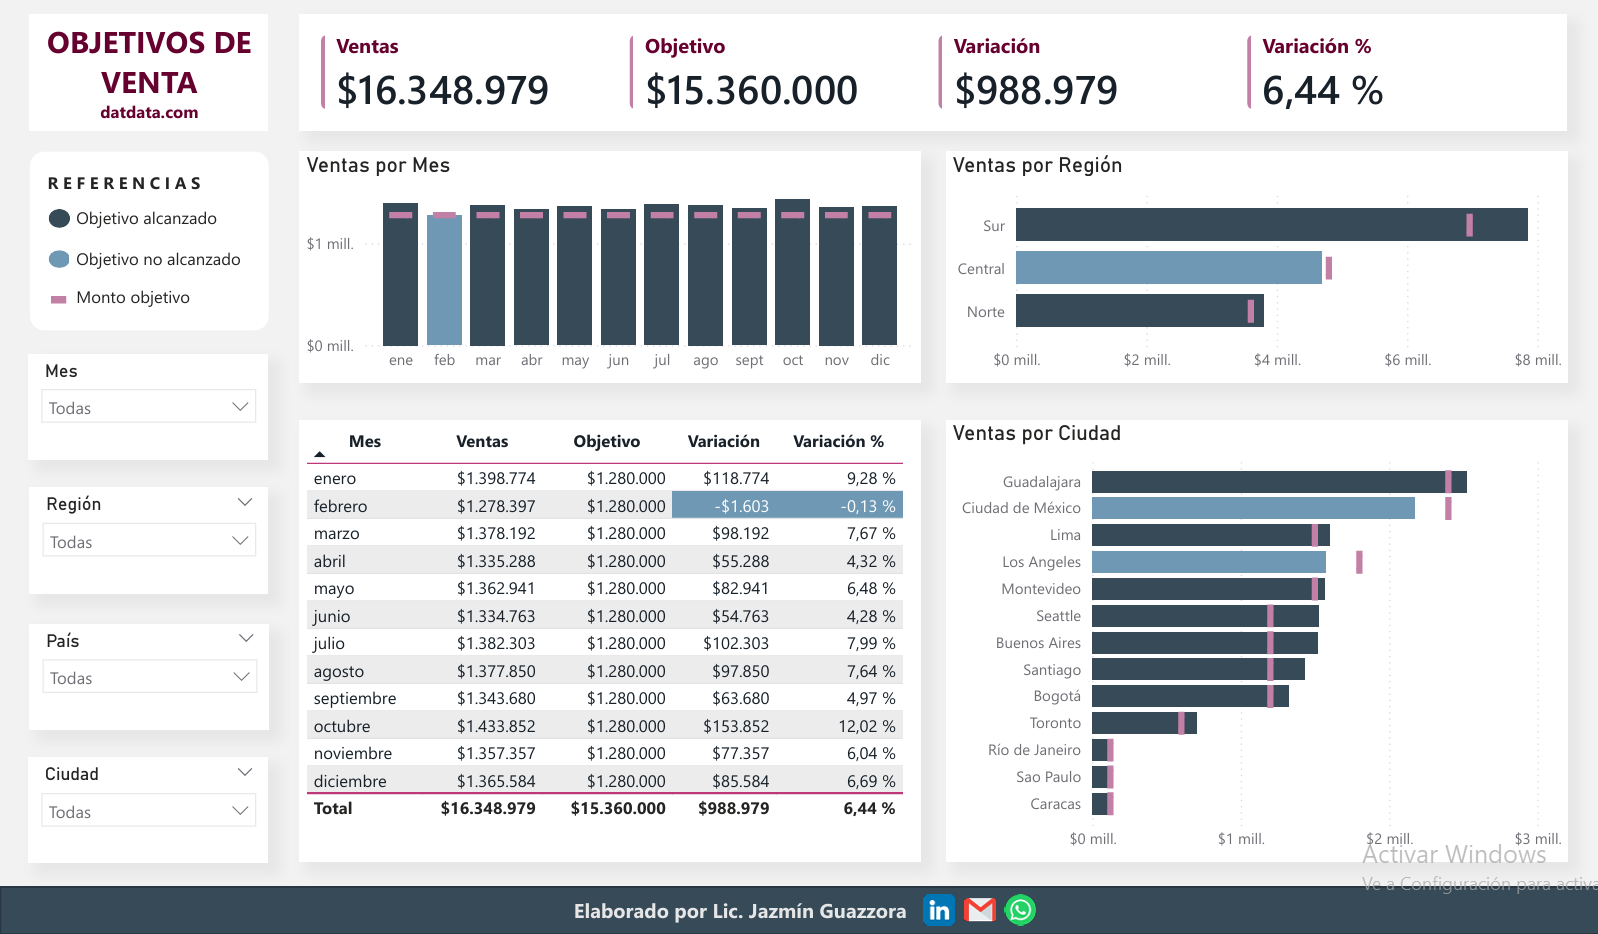

This screenshot's page, from the dashboard's own definition file:
{"tool":"powerbi","page":{"name":"Página 1","canvas":[1280,749],"ordinal":0},"visuals":[{"type":"tableEx","fields":{"Values":["calendario_2.Mes","medidas.01_ventas","medidas.02_objetivo","medidas.03_variacion_absoluta","medidas.04_variacion_reltiva"]},"box":[240,336.6,497,353],"z":0},{"type":"cardVisual","fields":{"Data":["medidas.01_ventas","medidas.02_objetivo","medidas.03_variacion_absoluta","medidas.04_variacion_reltiva"]},"box":[240,11.7,1014.1,93.7],"z":1000},{"type":"clusteredBarChart","title":"Ventas por Ciudad","fields":{"Category":["Tiendas.Ciudad"],"Y":["medidas.01_ventas"]},"box":[756.7,336.7,497,353.7],"z":2000},{"type":"clusteredBarChart","title":"Ventas por Región","fields":{"Category":["Tiendas.Región"],"Y":["medidas.01_ventas"]},"box":[756.7,121.8,497,185.4],"z":3000},{"type":"clusteredColumnChart","title":"Ventas por Mes","fields":{"Y":["medidas.01_ventas"],"Category":["calendario_2.MesCorto"]},"box":[239.7,121.8,497,185.7],"z":4000},{"type":"slicer","fields":{"Values":["calendario_2.Mes"]},"box":[23.4,283.9,191.9,84],"z":5000},{"type":"slicer","fields":{"Values":["Tiendas.Región"]},"box":[23.6,391.3,191.9,84.9],"z":6000},{"type":"slicer","fields":{"Values":["Tiendas.País"]},"box":[23.7,499.6,191.9,84],"z":7000},{"type":"slicer","fields":{"Values":["Tiendas.Ciudad"]},"box":[23.2,606.9,192,84],"z":8000},{"type":"shape","title":"Referencias","box":[23.7,121.8,191.6,143.4],"z":9000},{"type":"shape","box":[38,194,18,93],"z":9500},{"type":"textbox","box":[23.8,11.7,191.7,93.7],"z":10000},{"type":"shape","box":[39,168,17,15],"z":10000},{"type":"shape","box":[39,201,17,14],"z":11000},{"type":"textbox","box":[33.4,132.6,157.2,29.5],"z":12000},{"type":"textbox","box":[56,161.1,150.3,27.5],"z":13000},{"type":"shape","box":[0,710,1280,38],"z":13000},{"type":"group","id":"g1","title":"pie_pagina","box":[450,708,379,41],"z":14000},{"type":"textbox","title":"firma","box":[450,713,289,36],"z":14000,"group":"g1"},{"type":"textbox","box":[56,194,140,35],"z":15000},{"type":"textbox","box":[56,224,150,29],"z":15000},{"type":"image","box":[772.2,708,25.1,41],"z":15000,"group":"g1"},{"type":"image","box":[803.9,708,25.1,41],"z":16000,"group":"g1"},{"type":"image","box":[739,708.8,25.1,38.5],"z":17000,"group":"g1"}]}

Visuals, with their boxes in screenshot pixels (x1, y1, x2, y2), scaled from the page's 1280x749 canvas onto the 1598x934 screenshot:
tableEx - calendario_2.Mes x medidas.01_ventas: 300,420,920,860
cardVisual - medidas.01_ventas x medidas.02_objetivo: 300,15,1566,131
"Ventas por Ciudad" clusteredBarChart: 945,420,1565,861
"Ventas por Región" clusteredBarChart: 945,152,1565,383
"Ventas por Mes" clusteredColumnChart: 299,152,920,383
slicer - calendario_2.Mes: 29,354,269,459
slicer - Tiendas.Región: 29,488,269,594
slicer - Tiendas.País: 30,623,269,728
slicer - Tiendas.Ciudad: 29,757,269,862
"Referencias" shape: 30,152,269,331
shape: 47,242,70,358
textbox: 30,15,269,131
shape: 49,209,70,228
shape: 49,251,70,268
textbox: 42,165,238,202
textbox: 70,201,258,235
shape: 0,885,1597,933
"pie_pagina" group: 562,883,1035,933
"firma" textbox: 562,889,923,933
textbox: 70,242,245,286
textbox: 70,279,257,315
image: 964,883,995,933
image: 1004,883,1035,933
image: 923,884,954,932
